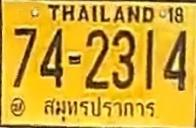1: (144, 30, 152, 88)
2: (85, 29, 108, 89)
3: (111, 29, 134, 88)
4: (163, 30, 186, 90), (39, 28, 62, 86)
7: (13, 27, 36, 87)
SPK: (43, 94, 161, 125)
